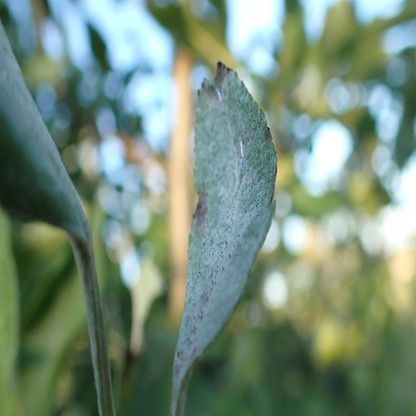powder: (173, 62, 278, 379), (0, 17, 88, 231)
